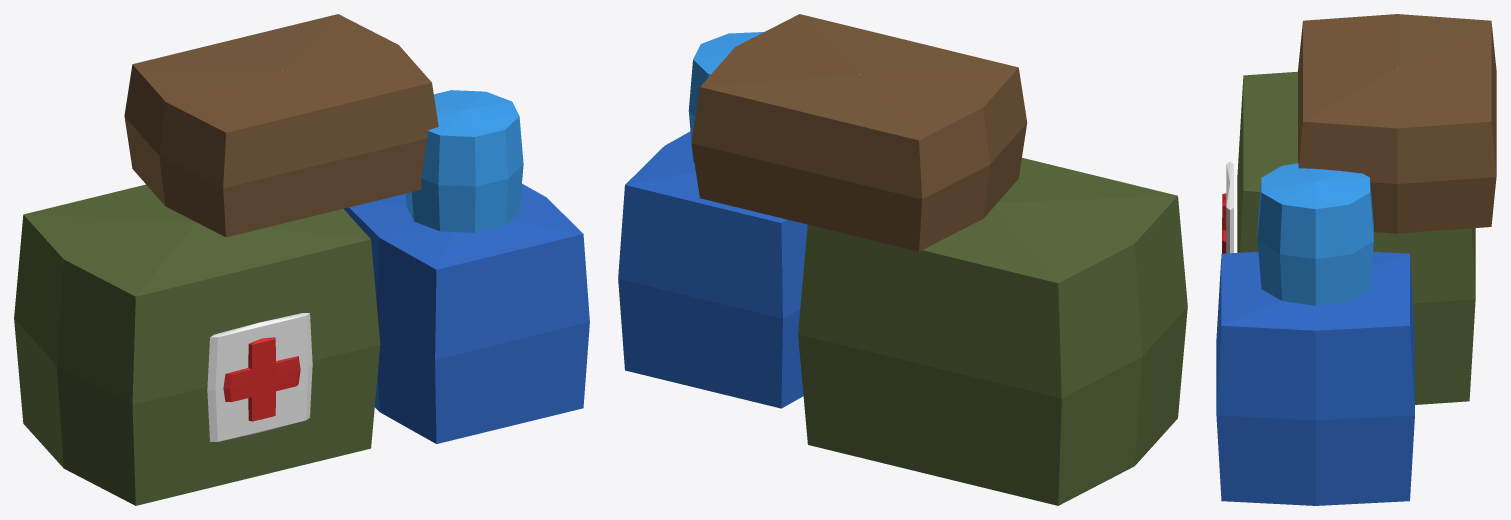
Rendered from r-supplies.glb.
3 renders of one model, left to right at view 1: azimuth 30°, elevation 25°; view 2: azimuth 150°, elevation 25°; view 3: azimuth 270°, elevation 25°, orthographic. The views are drawn at different scales.
Parts seen in each view (by area): view 1: p; view 2: p; view 3: p.
Part boxes in pixels (x1=…): p: x1=14, y1=14, x2=589, y2=505; p: x1=618, y1=14, x2=1187, y2=505; p: x1=1216, y1=14, x2=1496, y2=505.
Size of the model in its own units: 1.35 by 0.9 by 0.6872.
